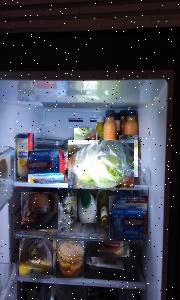Leche: (77, 189, 97, 223)
Lechuga/Endivia: (68, 140, 134, 188), (74, 144, 130, 188)
Yogur: (109, 196, 148, 239), (29, 150, 65, 183)
